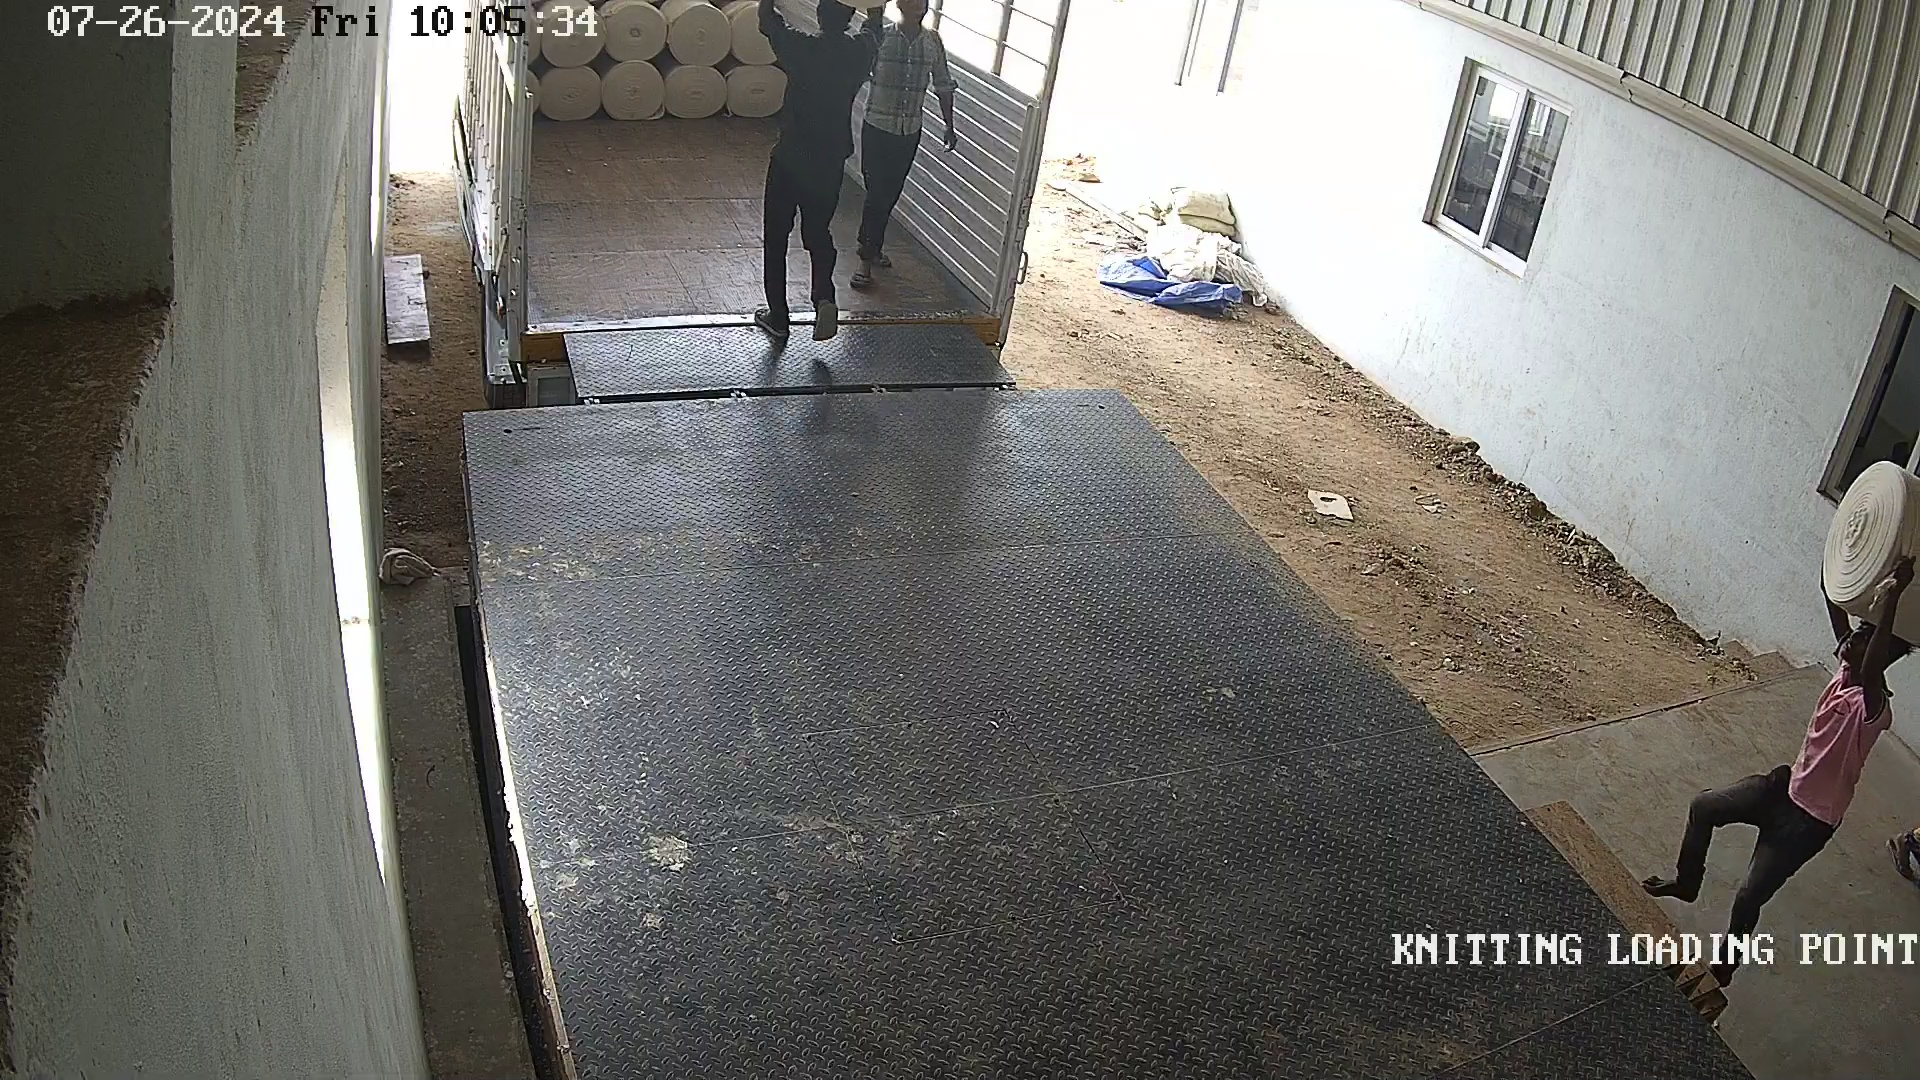bag: (1820, 455, 1920, 649)
